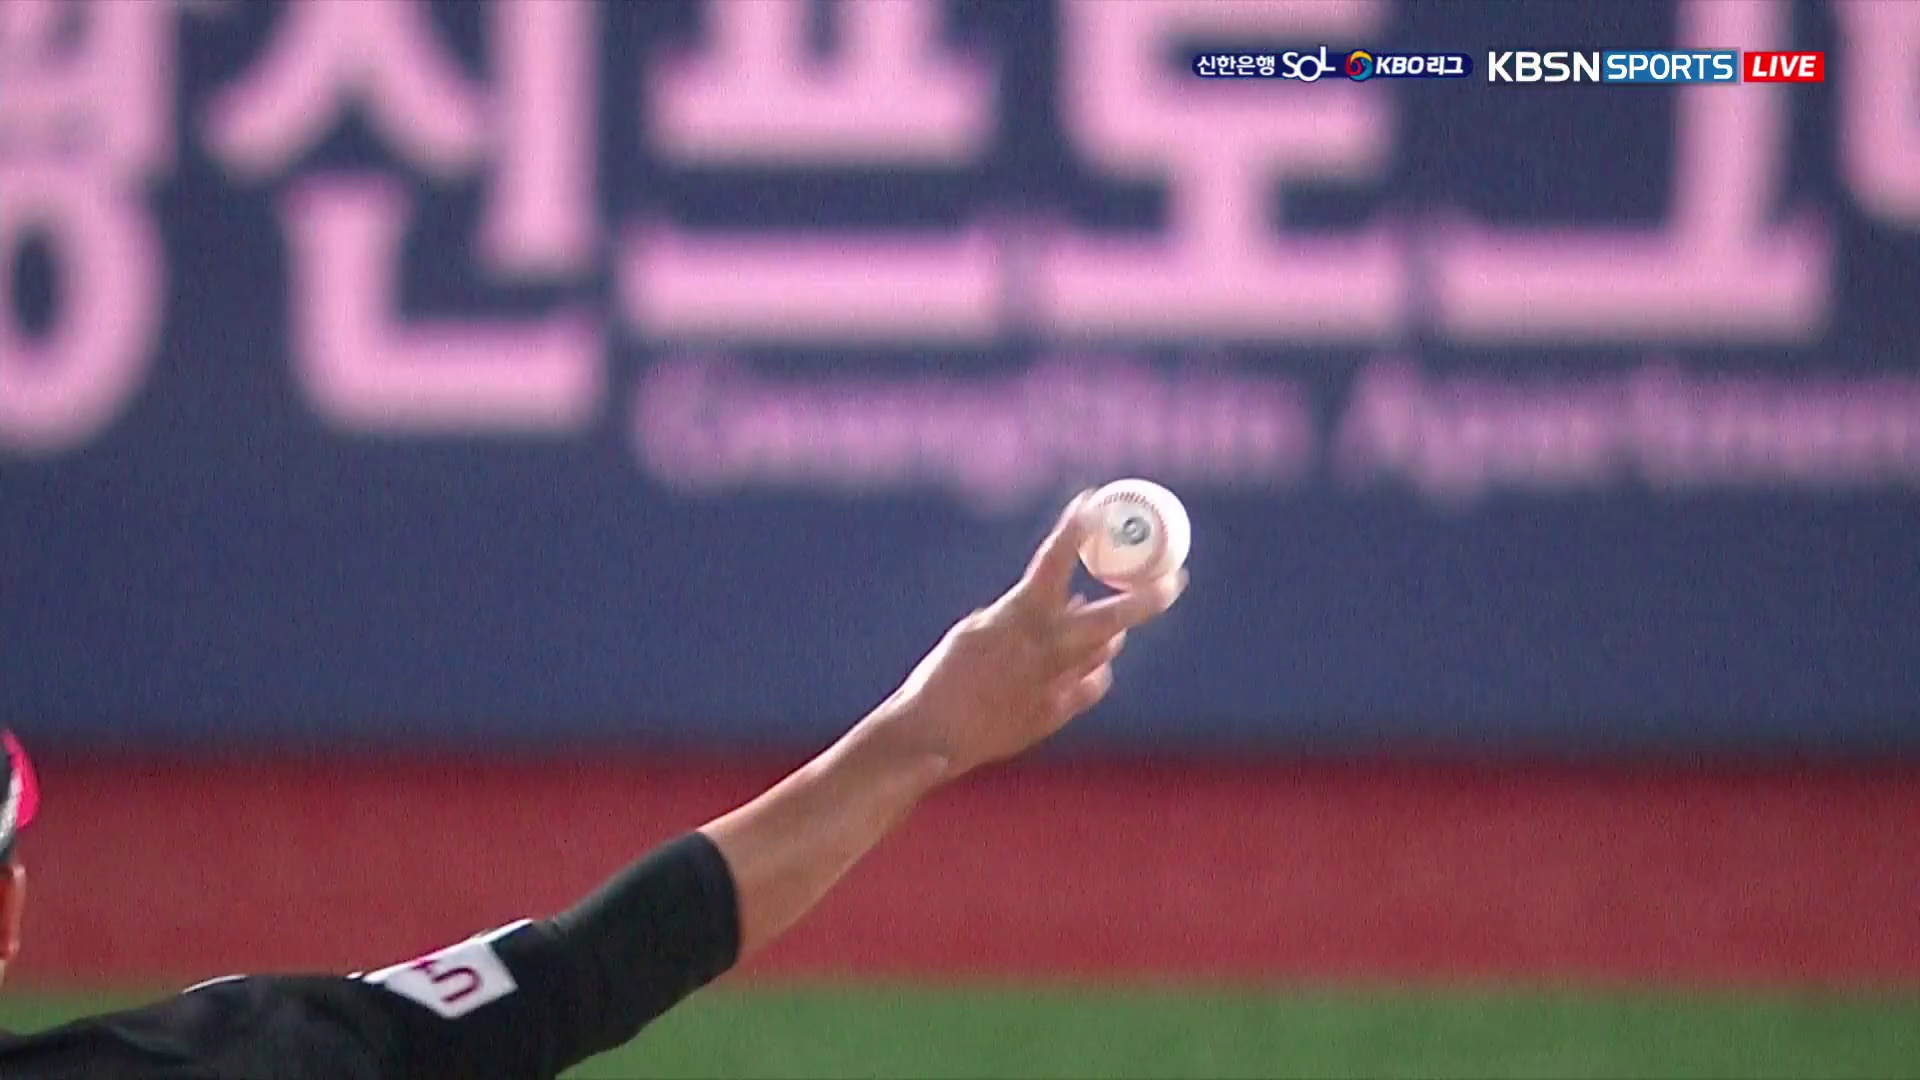zoomin_hand: (566, 462, 1208, 1073)
